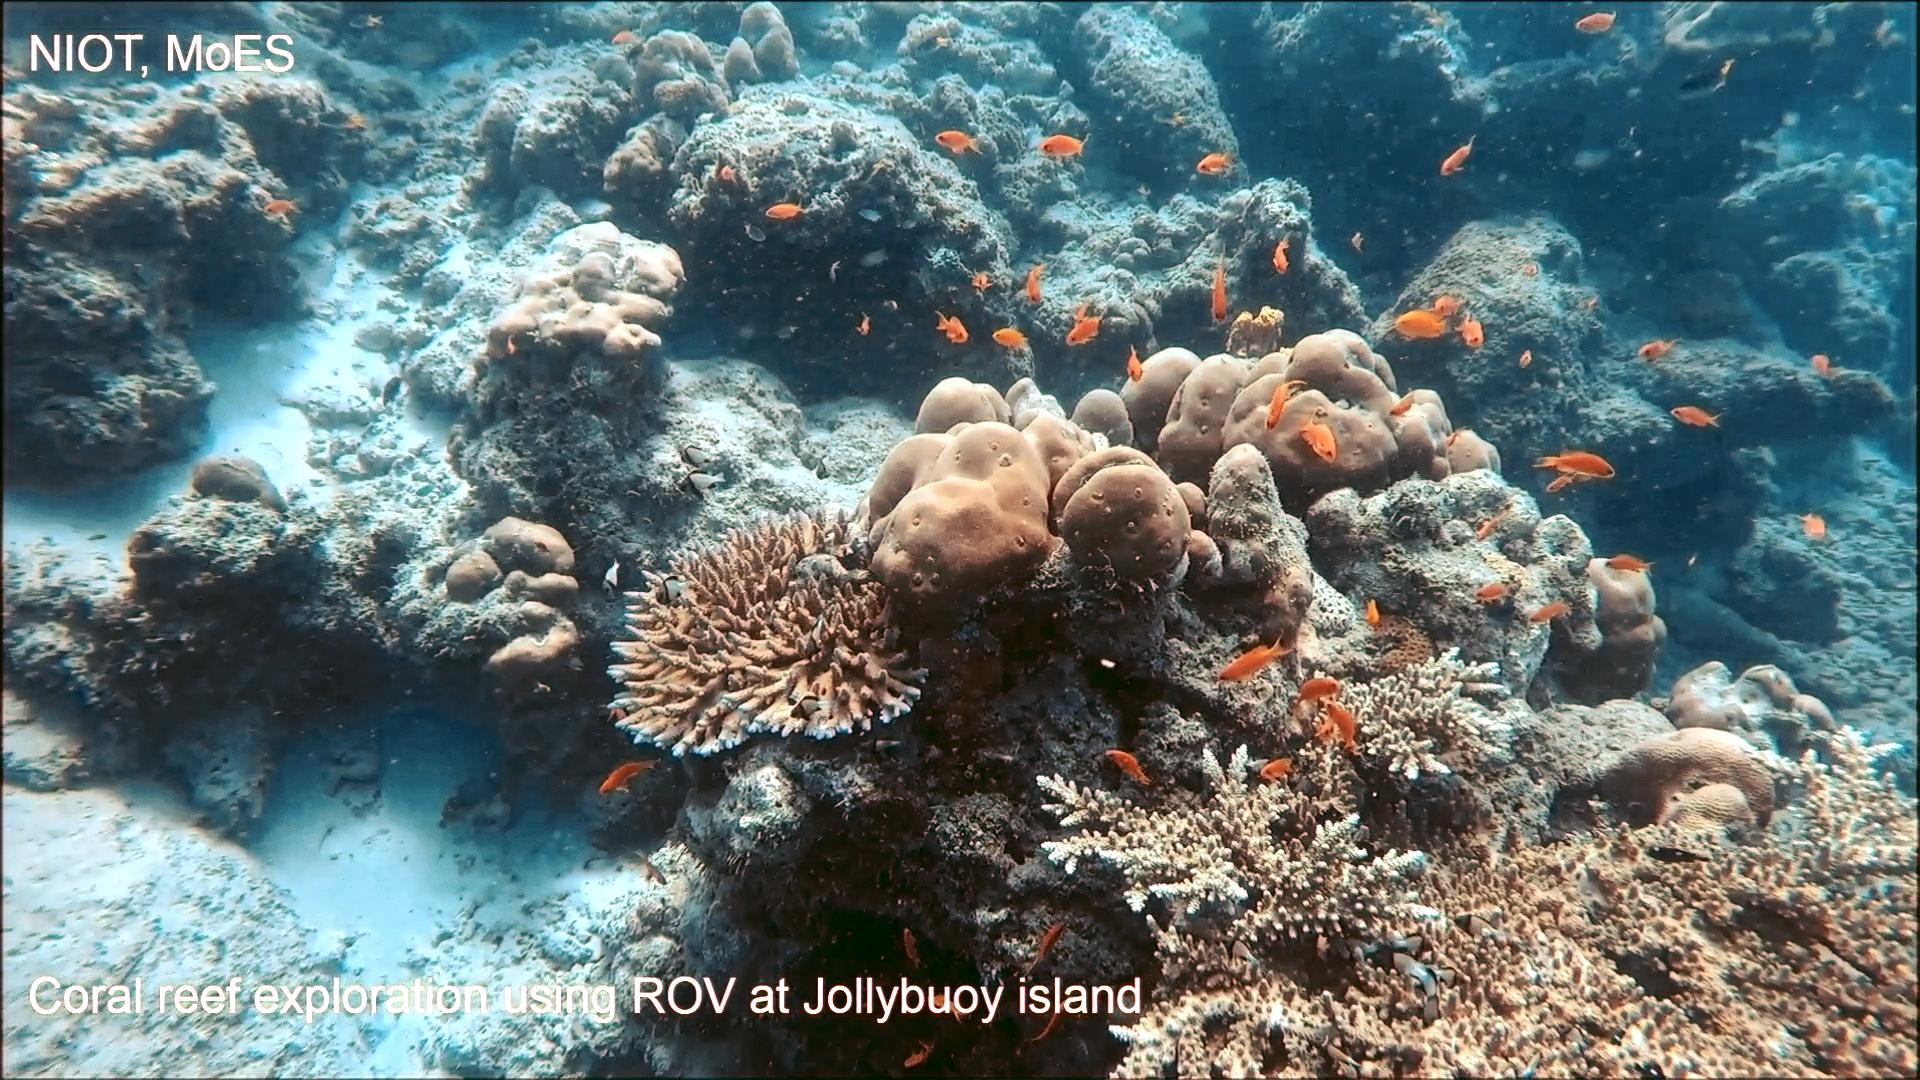Porites-Porites pukoensis: (848, 372, 1193, 628), (1106, 322, 1499, 506)
